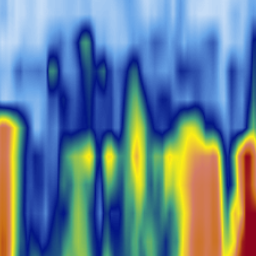defect: (163, 108, 227, 256), (120, 54, 149, 224), (57, 134, 97, 256), (1, 102, 30, 256), (233, 119, 256, 256), (100, 131, 119, 212), (74, 24, 94, 80), (47, 47, 63, 98), (96, 53, 108, 83)
